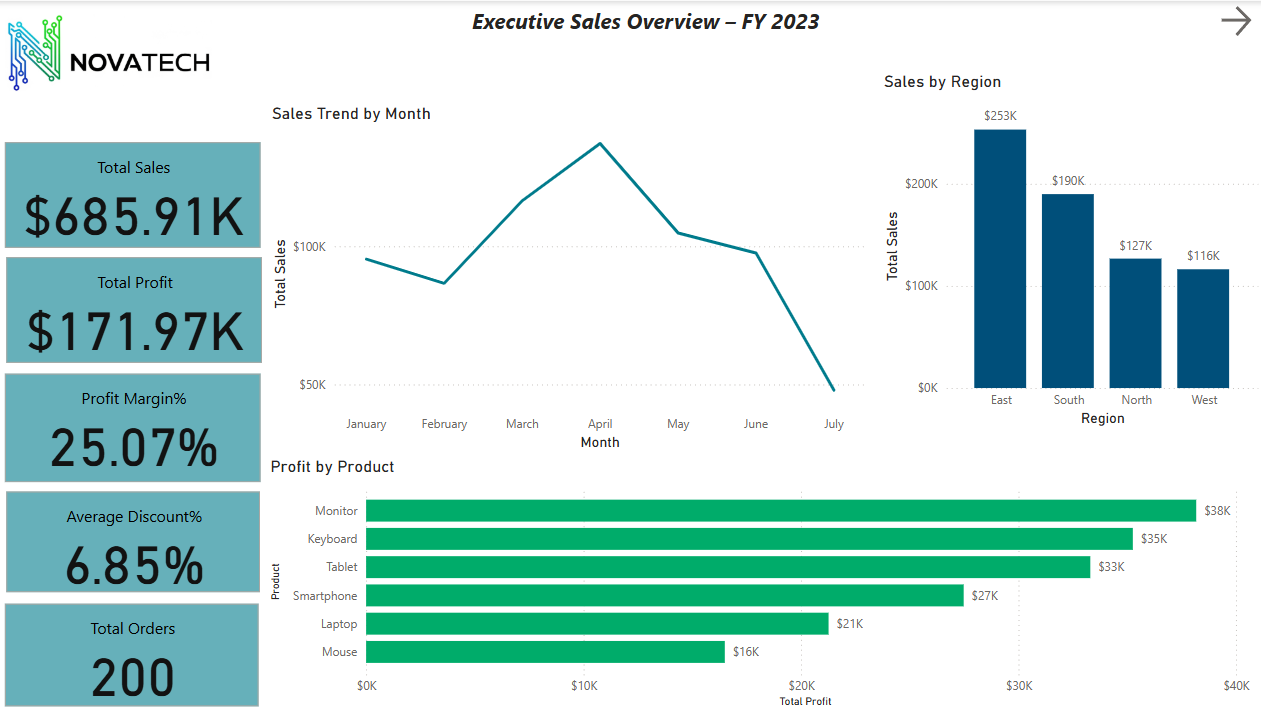

What the dashboard file says about the page in this screenshot:
{"tool":"powerbi","page":{"name":"Executive Overview","canvas":[1280,720],"ordinal":0},"visuals":[{"type":"cardVisual","fields":{"Data":["Key Measures.Profit Margin%"]},"box":[0,372.1,269.3,120.2],"z":0},{"type":"cardVisual","fields":{"Data":["Key Measures.Total Orders"]},"box":[0,605.2,267.9,114.4],"z":1000},{"type":"cardVisual","fields":{"Data":["Key Measures.Average Discount%"]},"box":[1.4,492.3,267.9,112.9],"z":2000},{"type":"cardVisual","fields":{"Data":["Key Measures.Total Sales"]},"box":[0,137.6,269.3,117.3],"z":3000},{"type":"cardVisual","fields":{"Data":["Key Measures.Total Profit"]},"box":[1.4,254.8,269.3,117.3],"z":4000},{"type":"lineChart","title":"Sales Trend by Month","fields":{"Y":["Key Measures.Total Sales"],"Category":["Date.Date.Variation.Date Hierarchy.Month"]},"box":[270.8,104.3,611,356.2],"z":5000},{"type":"columnChart","title":"Sales by Region","fields":{"Category":["Customer_Table.Region"],"Y":["Key Measures.Total Sales"]},"box":[890.5,72.4,389.5,363.4],"z":6000},{"type":"clusteredBarChart","title":"Profit by Product","fields":{"Category":["Product_Table.Product"],"Y":["Key Measures.Total Profit"]},"box":[269,461.8,1011.3,258.9],"z":7000},{"type":"textbox","box":[473.5,0,375,52.1],"z":8000},{"type":"actionButton","box":[1231.4,0,48.9,40.3],"z":9000},{"type":"image","box":[0,0,220.1,104.3],"z":10000}]}

Visuals, with their boxes in screenshot pixels (x1, y1, x2, y2), scaled from the page's 1280x720 canvas onto the 1261x711 screenshot:
cardVisual - Key Measures.Profit Margin%: x1=0 y1=367 x2=265 y2=486
cardVisual - Key Measures.Total Orders: x1=0 y1=598 x2=264 y2=710
cardVisual - Key Measures.Average Discount%: x1=1 y1=486 x2=265 y2=598
cardVisual - Key Measures.Total Sales: x1=0 y1=136 x2=265 y2=252
cardVisual - Key Measures.Total Profit: x1=1 y1=252 x2=267 y2=367
"Sales Trend by Month" lineChart: x1=267 y1=103 x2=869 y2=455
"Sales by Region" columnChart: x1=877 y1=71 x2=1260 y2=430
"Profit by Product" clusteredBarChart: x1=265 y1=456 x2=1260 y2=710
textbox: x1=466 y1=0 x2=836 y2=51
actionButton: x1=1213 y1=0 x2=1260 y2=40
image: x1=0 y1=0 x2=217 y2=103
